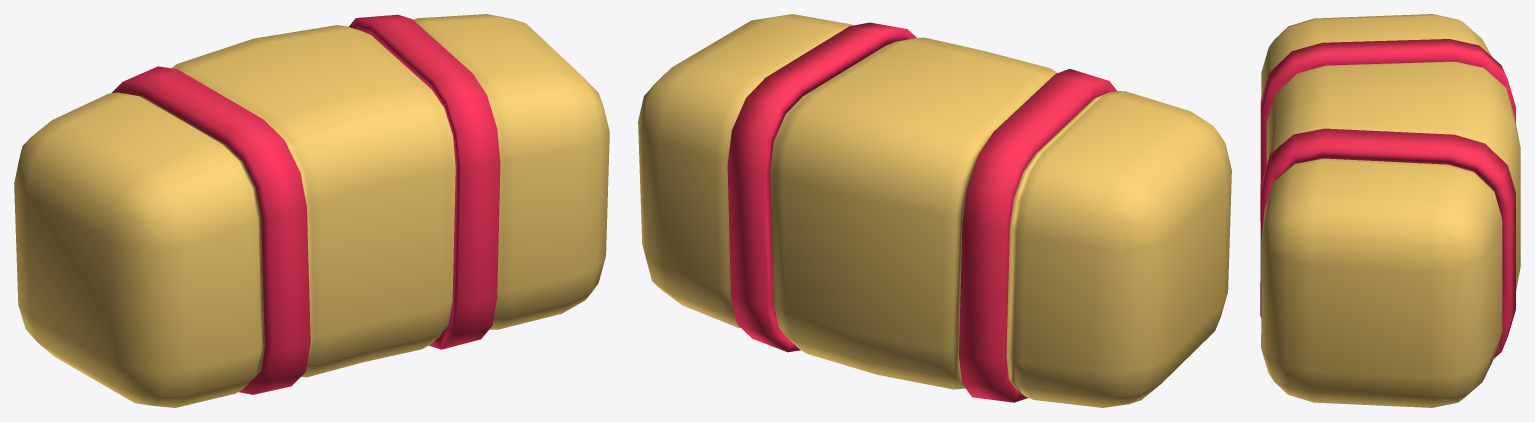
Rendered from SM_Haystack.fbx.
The picture shows the model from 3 angles, left to right: view 1: azimuth 30°, elevation 25°; view 2: azimuth 150°, elevation 25°; view 3: azimuth 270°, elevation 25°; orthographic projection. The views are drawn at different scales.
Visible parts, largest first — view 1: SM_Haystack_2; view 2: SM_Haystack_2; view 3: SM_Haystack_2.
Part boxes in pixels (box(x1,y1,x2,y2)): SM_Haystack_2: box(14, 14, 609, 407); SM_Haystack_2: box(638, 14, 1231, 407); SM_Haystack_2: box(1260, 14, 1520, 407).
Size of the model in its own units: 202 by 97.29 by 98.81.
